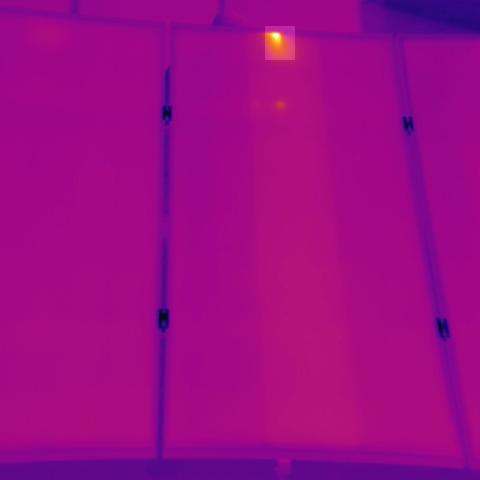fault: (266, 26, 296, 60)
